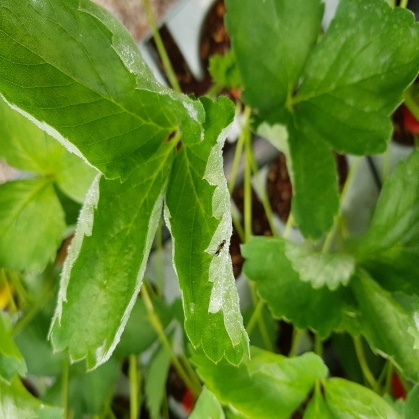Powdery_Leaf: (167, 139, 418, 418), (61, 78, 357, 263), (170, 46, 373, 279), (168, 50, 256, 327)
